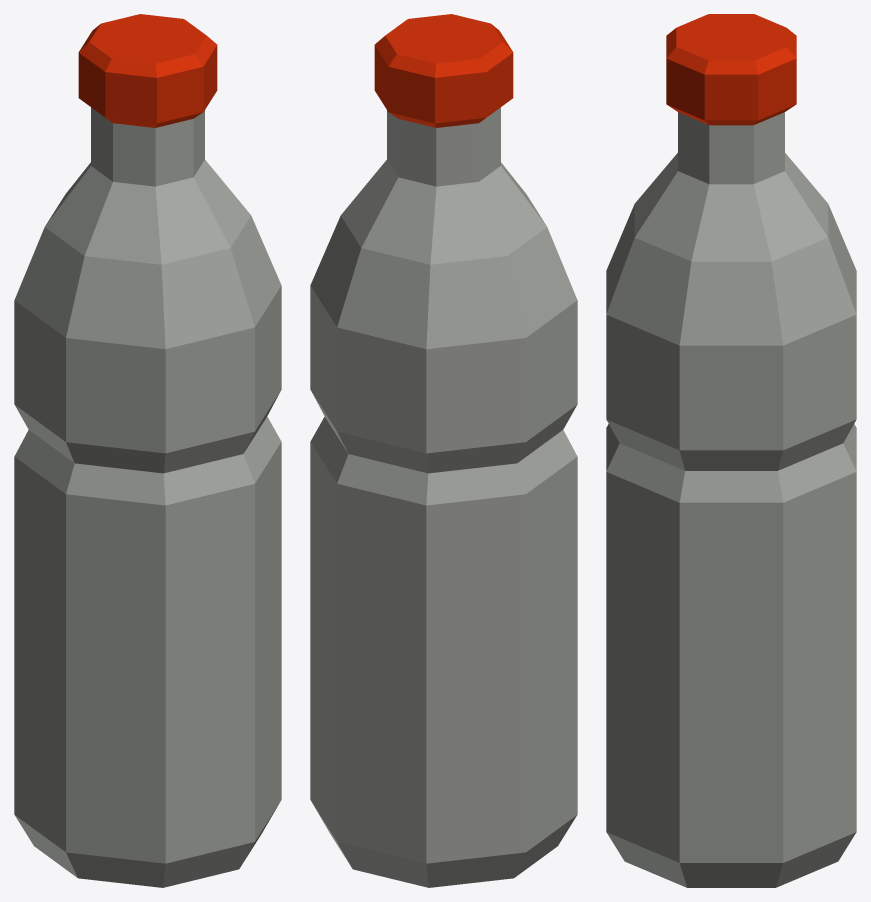
The model's file is SM_Clutter_Bottle_Clear_01.obj.
3 renders of one model, left to right at view 1: azimuth 30°, elevation 25°; view 2: azimuth 150°, elevation 25°; view 3: azimuth 270°, elevation 25°, orthographic.
Parts seen in each view (by area): view 1: SM_Clutter_Bottle_Clear_01; view 2: SM_Clutter_Bottle_Clear_01; view 3: SM_Clutter_Bottle_Clear_01.
Boxes of the visible parts, left/top/right/bottom form: SM_Clutter_Bottle_Clear_01: left=14, top=14, right=281, bottom=887; SM_Clutter_Bottle_Clear_01: left=310, top=14, right=577, bottom=887; SM_Clutter_Bottle_Clear_01: left=606, top=14, right=856, bottom=887.
Size of the model in its own units: 0.0693 by 0.246 by 0.0693.
Materials: 1 (1 with a texture image).
